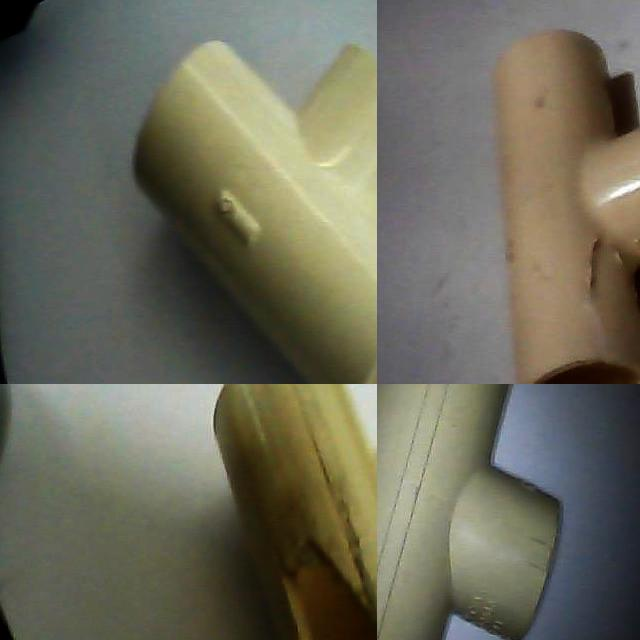Defective: (281, 536, 377, 640), (576, 226, 628, 333)
T Joint: (131, 41, 377, 384), (495, 31, 640, 384), (377, 384, 561, 640), (211, 384, 377, 640)
